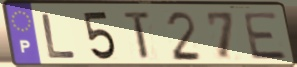2: (165, 10, 203, 62)
5: (81, 10, 117, 62)
7: (204, 10, 237, 62)
E: (241, 11, 290, 61)
L: (39, 12, 79, 60)
T: (123, 10, 154, 63)
